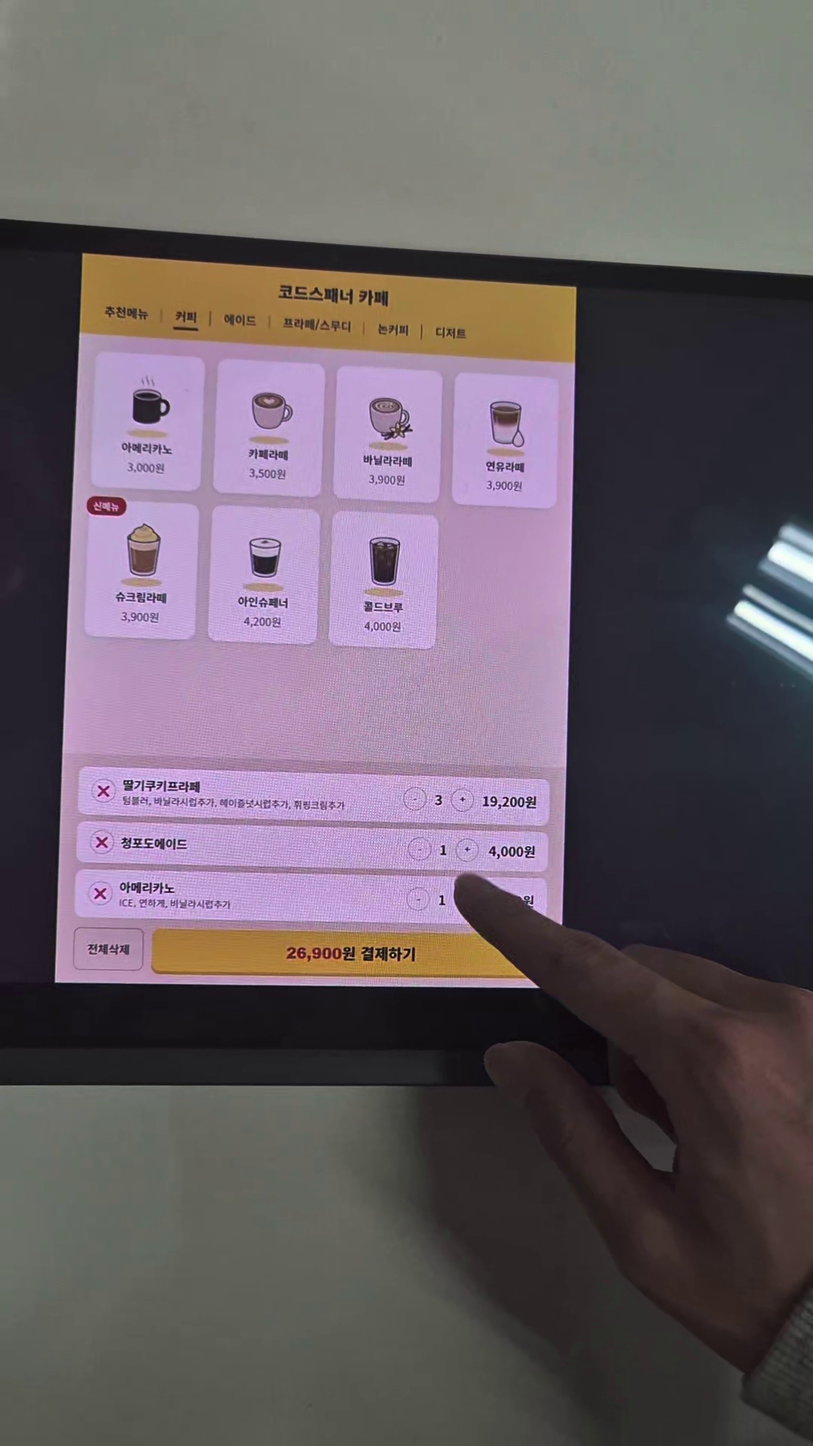action_button: (151, 929, 543, 979), (74, 928, 143, 971)
cart_item: (78, 766, 550, 826), (75, 869, 547, 924), (77, 822, 548, 872)
category_tab: (282, 316, 352, 334), (103, 304, 149, 321), (376, 321, 411, 339), (222, 312, 258, 328), (434, 324, 467, 341), (174, 310, 198, 325)
menu_back: (86, 497, 199, 639), (92, 352, 204, 492), (208, 506, 321, 644), (329, 511, 439, 648), (214, 360, 323, 497), (335, 366, 442, 503), (452, 373, 559, 509)
menu_name: (362, 452, 414, 470), (119, 441, 173, 457), (114, 590, 167, 604), (237, 596, 289, 609), (246, 448, 290, 462), (362, 600, 404, 614), (484, 460, 526, 474)
menu_price: (123, 460, 166, 476), (363, 619, 402, 634), (366, 473, 407, 487), (484, 479, 524, 493), (119, 611, 161, 624), (247, 467, 287, 480), (243, 616, 283, 629)
